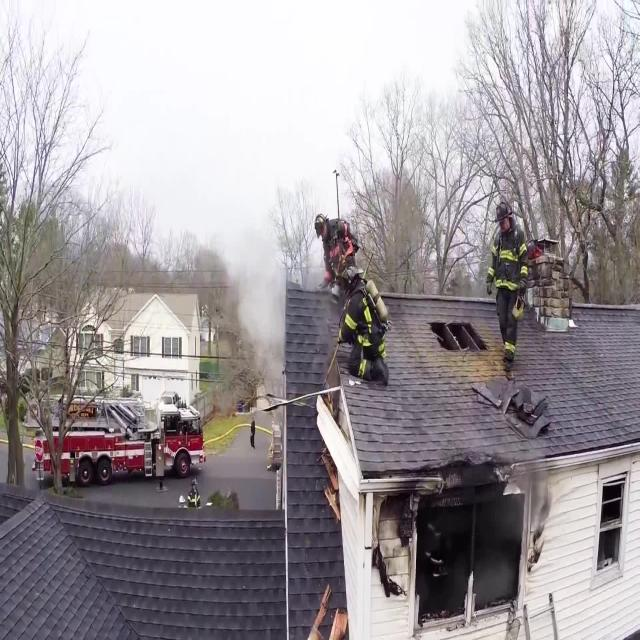Smoke: (138, 51, 347, 412)
